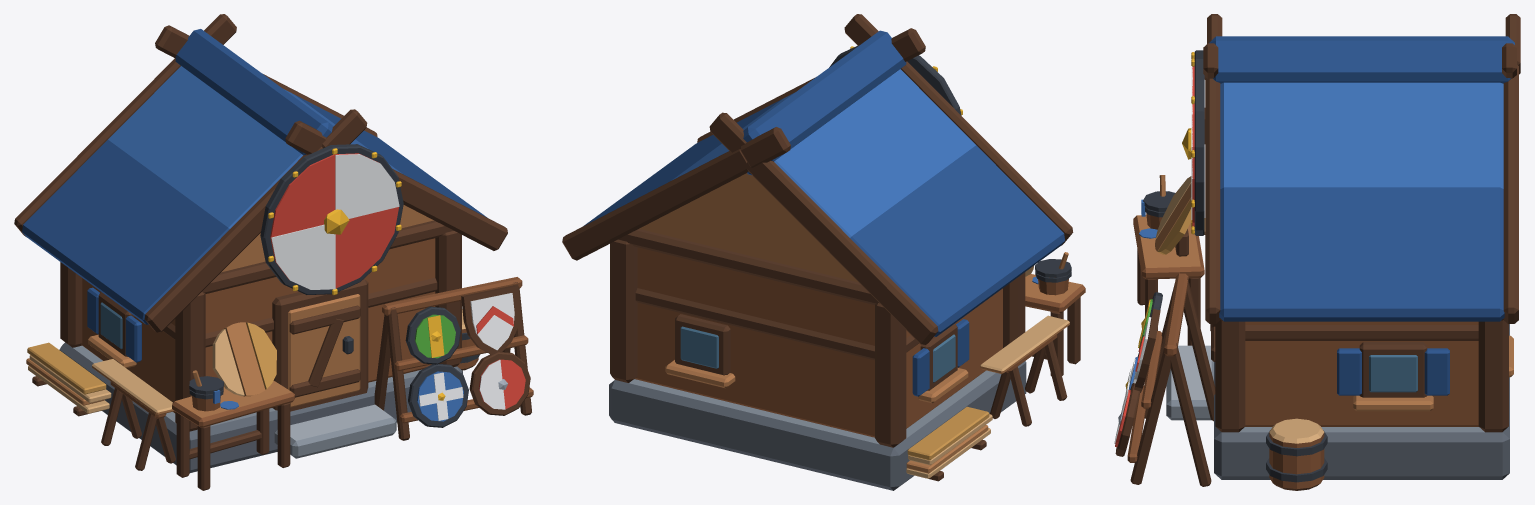
Rendered from Bld_ShieldWorkshop.fbx.
3 renders of one model, left to right at view 1: azimuth 30°, elevation 25°; view 2: azimuth 150°, elevation 25°; view 3: azimuth 270°, elevation 25°, orthographic. The views are drawn at different scales.
Visible parts, largest first — view 1: Bld_ShieldWorkshop; view 2: Bld_ShieldWorkshop; view 3: Bld_ShieldWorkshop.
Boxes of the visible parts, box(x1,y1,x2,y2) form: Bld_ShieldWorkshop: box(14, 14, 533, 490); Bld_ShieldWorkshop: box(562, 14, 1085, 490); Bld_ShieldWorkshop: box(1114, 14, 1520, 490).
Size of the model in its own units: 3.91 by 3.3 by 3.24.
